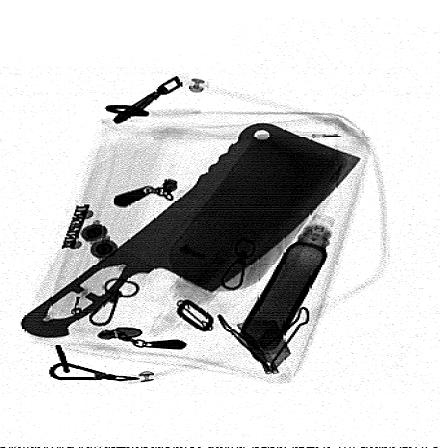Knife: (19, 122, 364, 340)
